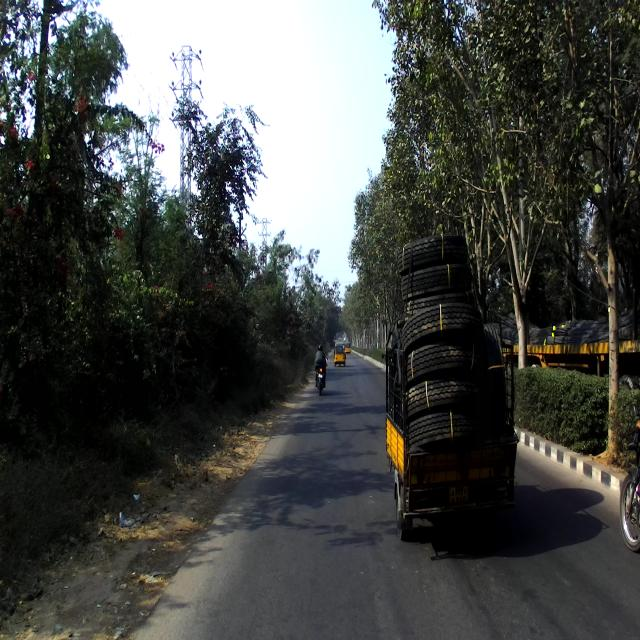truck ahead at: (385, 230, 520, 533)
